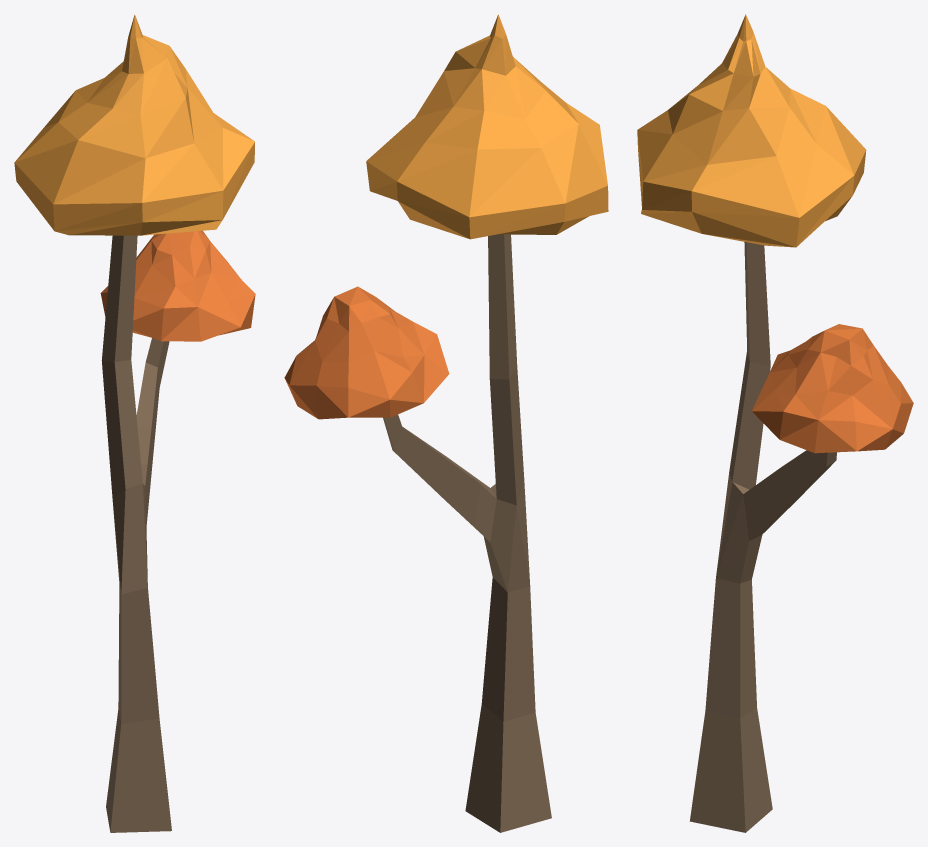
The model's file is Tree_10.fbx.
The picture shows the model from 3 angles, left to right: view 1: azimuth 30°, elevation 25°; view 2: azimuth 150°, elevation 25°; view 3: azimuth 270°, elevation 25°; orthographic projection.
Visible parts, largest first — view 1: M_Tree 10; view 2: M_Tree 10; view 3: M_Tree 10.
Boxes of the visible parts, x1,y1,x2,y2 form: M_Tree 10: (14, 14, 255, 832); M_Tree 10: (284, 14, 608, 832); M_Tree 10: (637, 14, 913, 832).
Bounding box in the file's own units: 64.76 × 196 × 61.23.
1 material, 1 textured.
